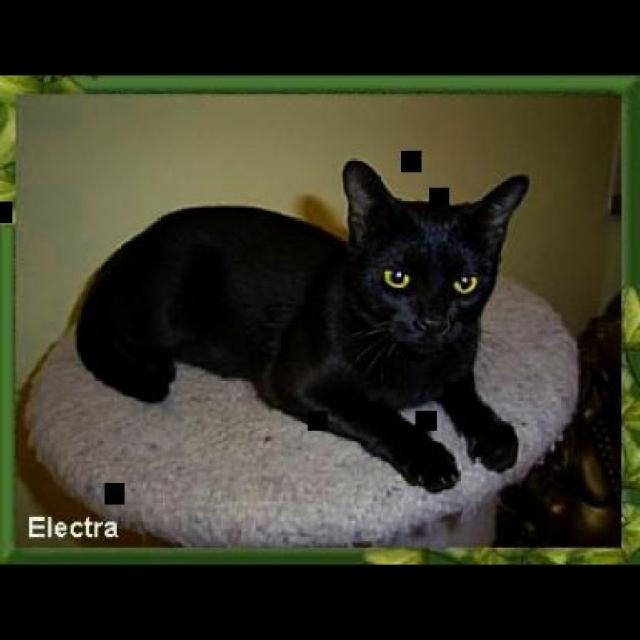unauthorized: (72, 157, 530, 494)
